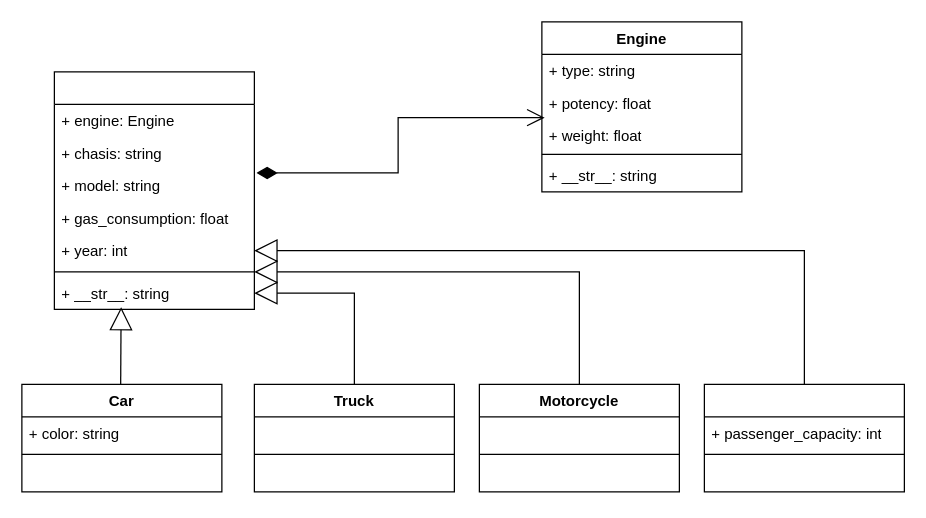
The diagram is 926 pixels wide and 518 high, and some of its shapes have lost their labels. Here are the shapes that lost their labels. From the top down, the box of each, then its label:
(53, 71, 254, 309): Vehicle
(703, 383, 904, 492): Yacht
